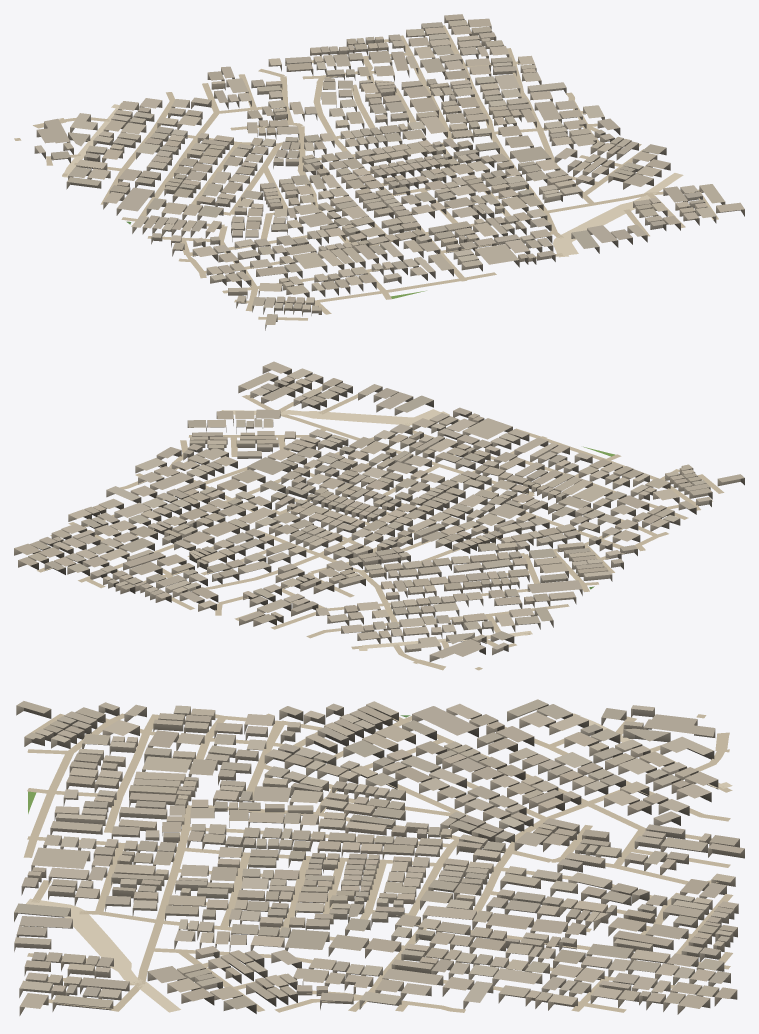
The picture shows the model from 3 angles, top to bottom: view 1: azimuth 30°, elevation 25°; view 2: azimuth 150°, elevation 25°; view 3: azimuth 270°, elevation 25°; orthographic projection. The views are drawn at different scales.
Visible parts, largest first — view 1: building, ground; view 2: building, ground; view 3: building, ground.
Boxes of the visible parts, left/top/right/bottom form: building: left=34, top=14, right=744, bottom=330; ground: left=14, top=25, right=718, bottom=320; building: left=14, top=361, right=744, bottom=661; ground: left=37, top=378, right=724, bottom=670; building: left=14, top=699, right=744, bottom=1015; ground: left=23, top=713, right=733, bottom=1012.
Bounding box in the file's own units: 523 × 8 × 521.
